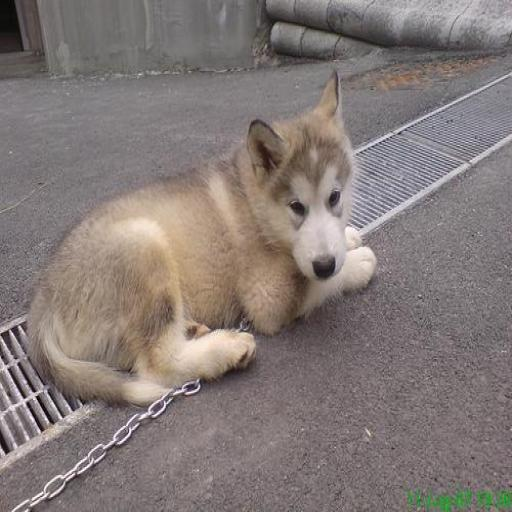dog_face: (245, 67, 359, 277)
